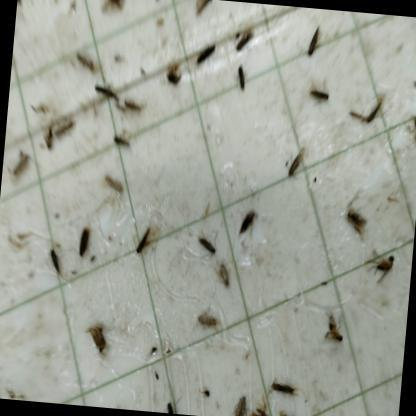prays_oleae: (322, 314, 356, 362), (86, 311, 115, 359), (74, 214, 96, 266), (196, 305, 224, 344), (68, 44, 98, 80), (288, 140, 307, 196), (268, 372, 302, 403), (132, 223, 159, 260), (191, 39, 221, 72), (371, 251, 400, 285), (5, 150, 33, 184), (91, 80, 122, 110), (36, 114, 58, 156), (310, 80, 333, 120), (213, 253, 237, 290), (50, 112, 76, 146), (345, 202, 368, 238), (306, 22, 327, 60), (401, 109, 416, 162), (45, 244, 67, 278), (234, 62, 252, 102), (364, 98, 388, 128), (101, 166, 124, 196), (196, 228, 216, 262), (229, 386, 250, 416), (237, 202, 256, 235), (112, 130, 136, 156), (237, 18, 252, 57), (164, 385, 181, 414), (249, 394, 271, 416), (99, 0, 127, 15), (191, 0, 216, 13), (16, 0, 27, 13), (277, 411, 305, 416), (150, 0, 166, 2)
